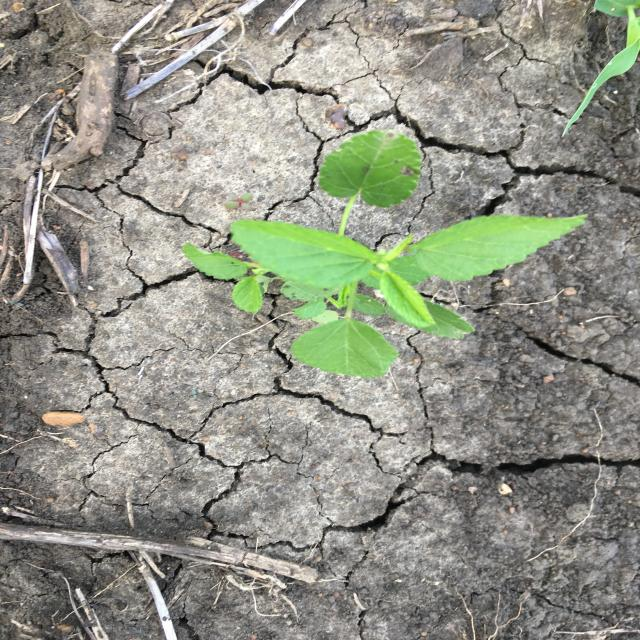PricklySida: (178, 127, 591, 382)
